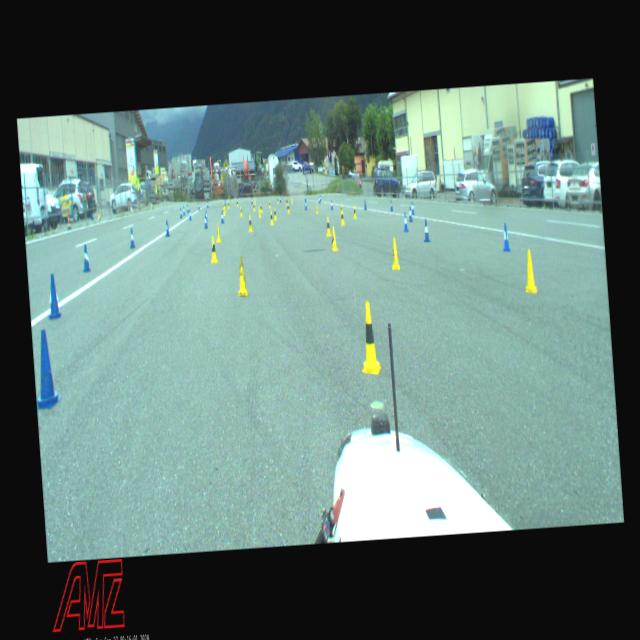blue_cone: (31, 328, 61, 409), (45, 273, 61, 320), (80, 242, 90, 272), (501, 222, 510, 251), (422, 218, 430, 242), (128, 227, 136, 248), (402, 211, 408, 232), (164, 219, 170, 236), (408, 205, 413, 222), (203, 214, 208, 228), (410, 201, 414, 215), (204, 208, 208, 222), (389, 198, 393, 212), (220, 210, 224, 223), (188, 208, 192, 220), (178, 207, 182, 218), (330, 199, 333, 210), (304, 199, 307, 210), (182, 206, 185, 216), (186, 204, 189, 213), (364, 198, 366, 210), (317, 196, 320, 203), (250, 197, 253, 204), (286, 200, 288, 210), (197, 201, 199, 209), (304, 194, 306, 202), (319, 194, 321, 202), (224, 198, 226, 206), (206, 200, 208, 207), (279, 195, 281, 202)
yellow_cone: (357, 299, 382, 375), (522, 248, 538, 294), (235, 256, 248, 296), (390, 236, 400, 270), (209, 234, 218, 264), (329, 226, 338, 252), (325, 216, 331, 237), (215, 222, 221, 243), (268, 210, 274, 224), (352, 204, 357, 219), (248, 214, 252, 232), (340, 208, 344, 225), (273, 207, 277, 220), (314, 202, 318, 214), (258, 206, 262, 218), (286, 203, 290, 214), (258, 202, 262, 212), (227, 198, 230, 208), (222, 206, 225, 215), (240, 204, 242, 217), (268, 200, 271, 208), (252, 202, 255, 210), (340, 202, 342, 214), (284, 198, 287, 205), (236, 198, 238, 206), (276, 196, 278, 203), (290, 196, 292, 203), (254, 197, 256, 204)
